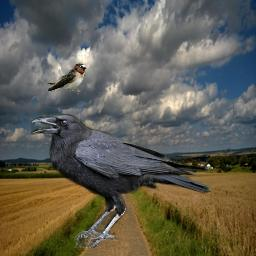Crow: (31, 114, 212, 248)
Swallow: (46, 62, 88, 93)
